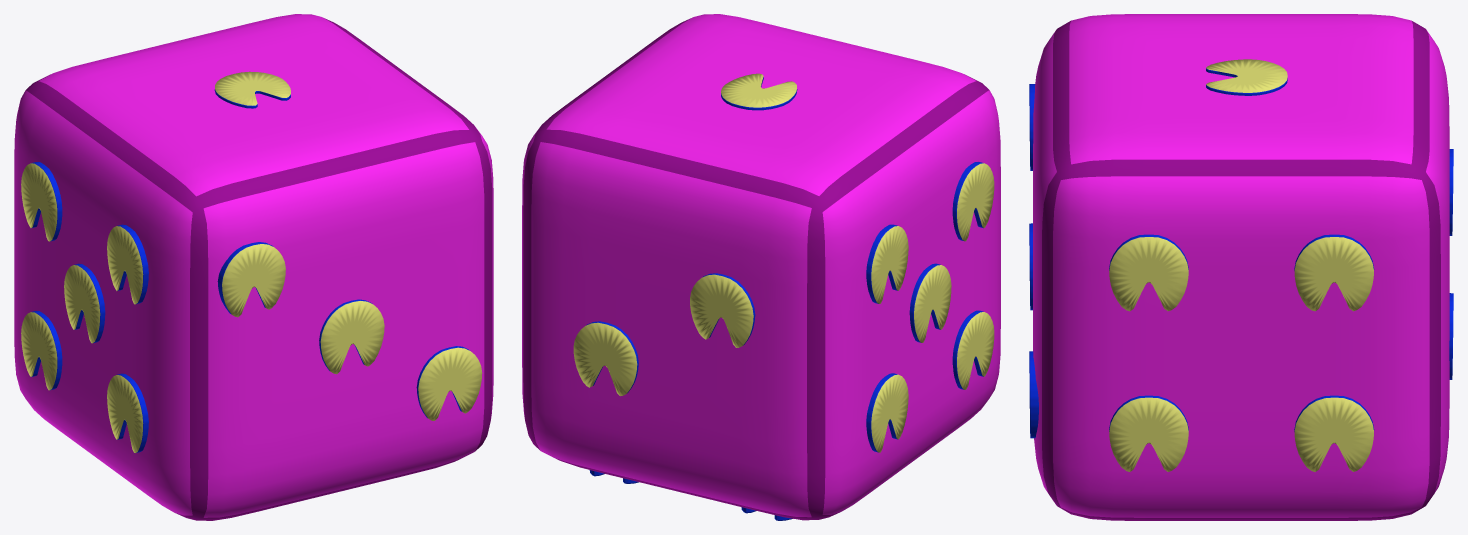
File: 071_BPD DIE.fbx
3 renders of one model, left to right at view 1: azimuth 30°, elevation 25°; view 2: azimuth 150°, elevation 25°; view 3: azimuth 270°, elevation 25°, orthographic. The views are drawn at different scales.
Parts seen in each view (by area): view 1: Cube, Plane.003, Plane.001; view 2: Cube, Plane.003, Plane.001; view 3: Cube, Plane.003, Plane.001.
Boxes of the visible parts, bbox=[...] form: Cube: bbox=[14, 14, 493, 520]; Plane.003: bbox=[21, 162, 482, 453]; Plane.001: bbox=[214, 71, 290, 108]; Cube: bbox=[522, 14, 1000, 520]; Plane.003: bbox=[573, 162, 994, 520]; Plane.001: bbox=[721, 73, 797, 110]; Cube: bbox=[1033, 14, 1449, 520]; Plane.003: bbox=[1029, 84, 1453, 471]; Plane.001: bbox=[1206, 59, 1287, 95].
Size of the model in its own units: 2.31 by 2.27 by 2.28.
